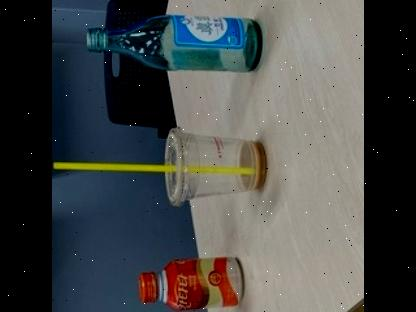Others: (80, 8, 268, 76), (155, 121, 272, 209), (132, 251, 247, 312)
